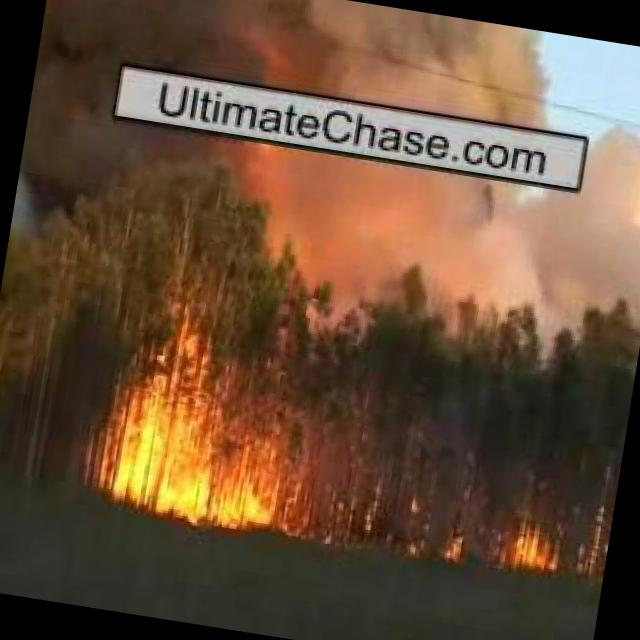Fire: (92, 356, 300, 540), (502, 519, 566, 575), (293, 481, 348, 543), (586, 509, 608, 576), (438, 534, 462, 560)
Smoke: (10, 104, 640, 329), (38, 0, 566, 132)
